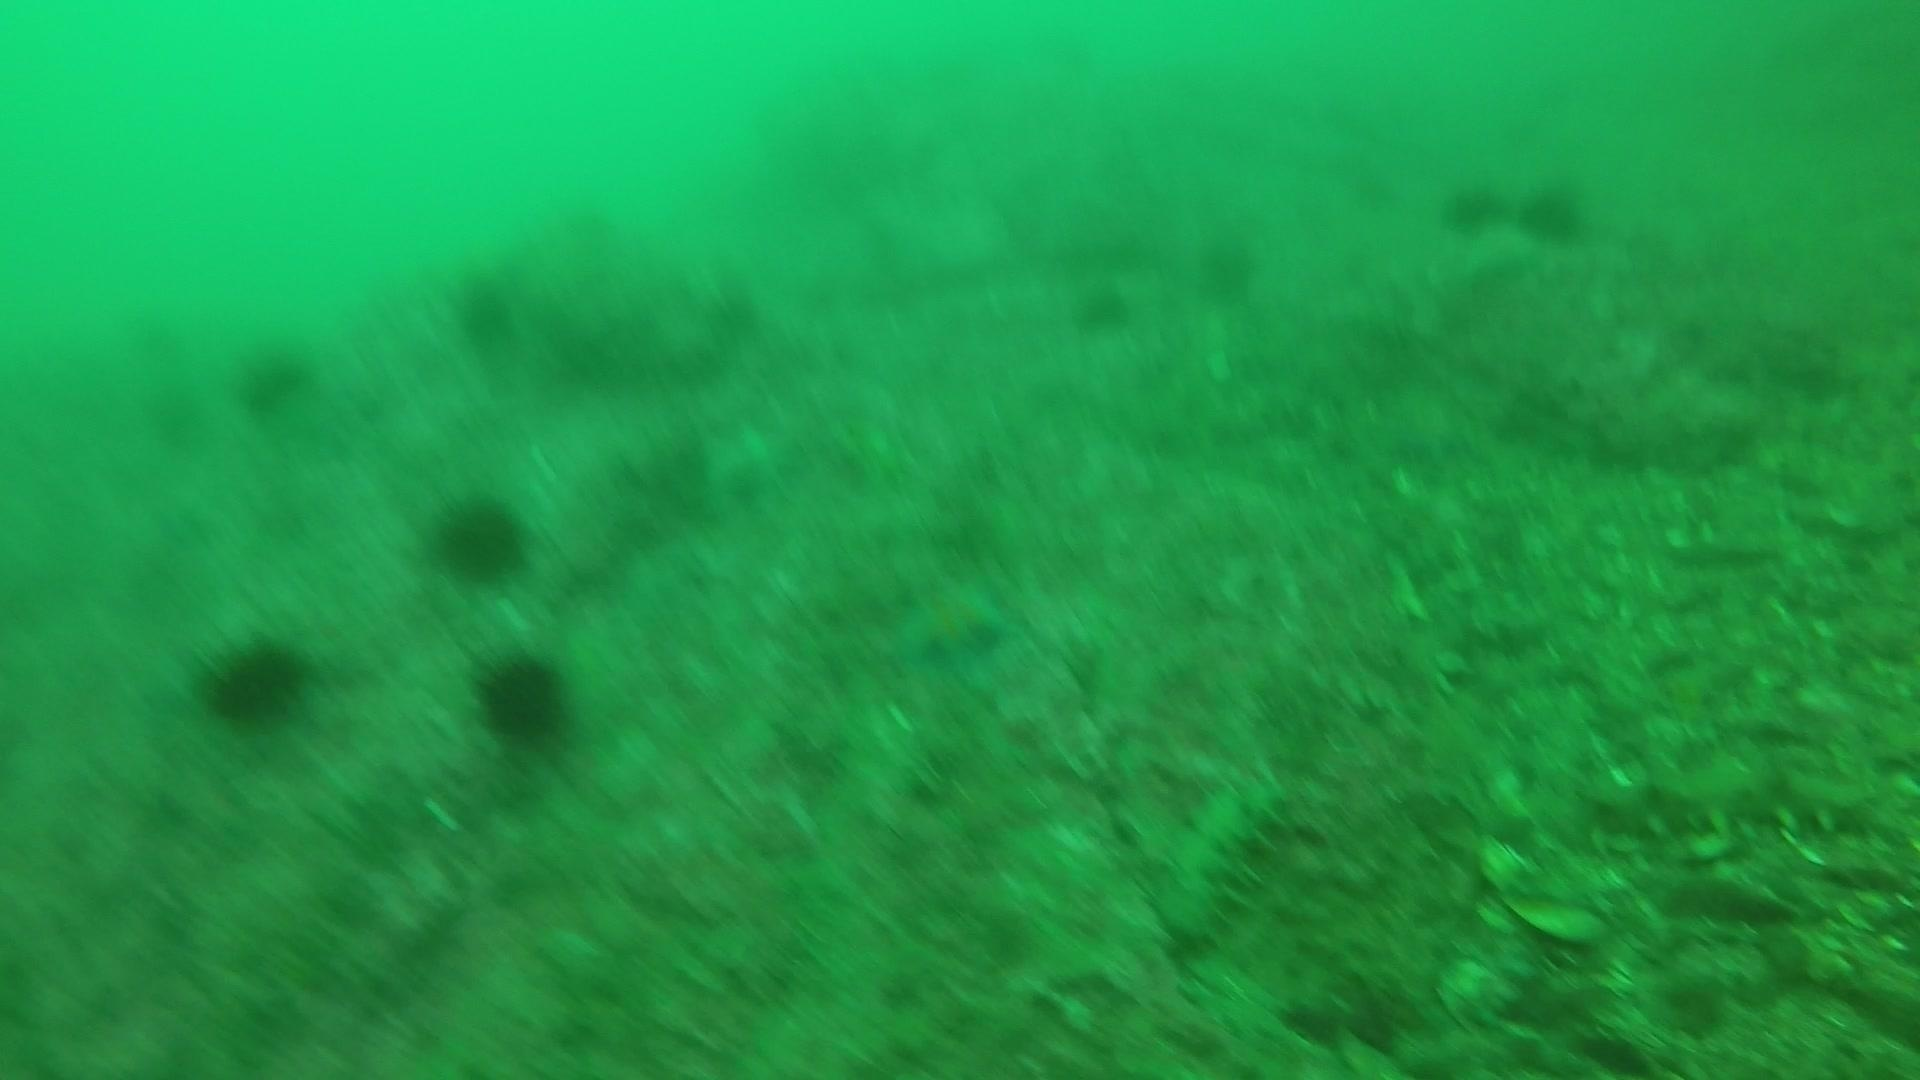echinus: (193, 629, 316, 731), (468, 646, 576, 748), (425, 488, 533, 587), (233, 338, 316, 415), (448, 266, 521, 349), (1193, 228, 1263, 303), (1516, 178, 1590, 247), (140, 377, 207, 448), (1439, 175, 1505, 236), (1069, 280, 1135, 338)
holothurian: (1586, 738, 1880, 853), (1149, 764, 1288, 948)
starfish: (887, 568, 1013, 676)
